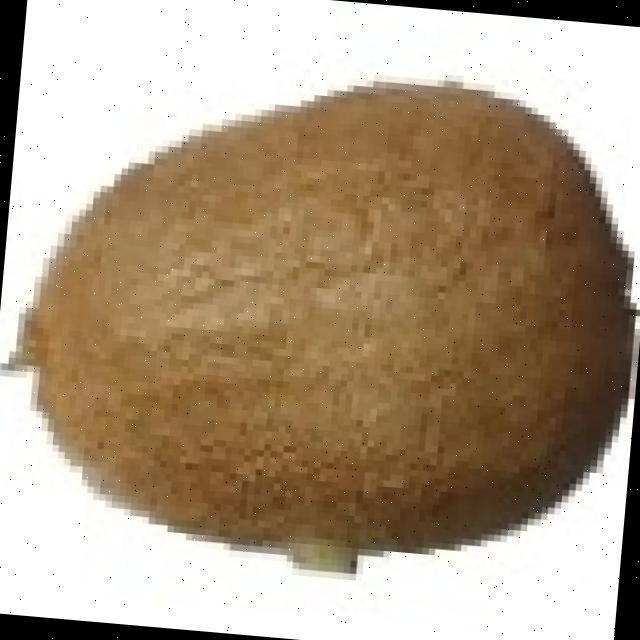kiwi: (16, 74, 622, 559)
